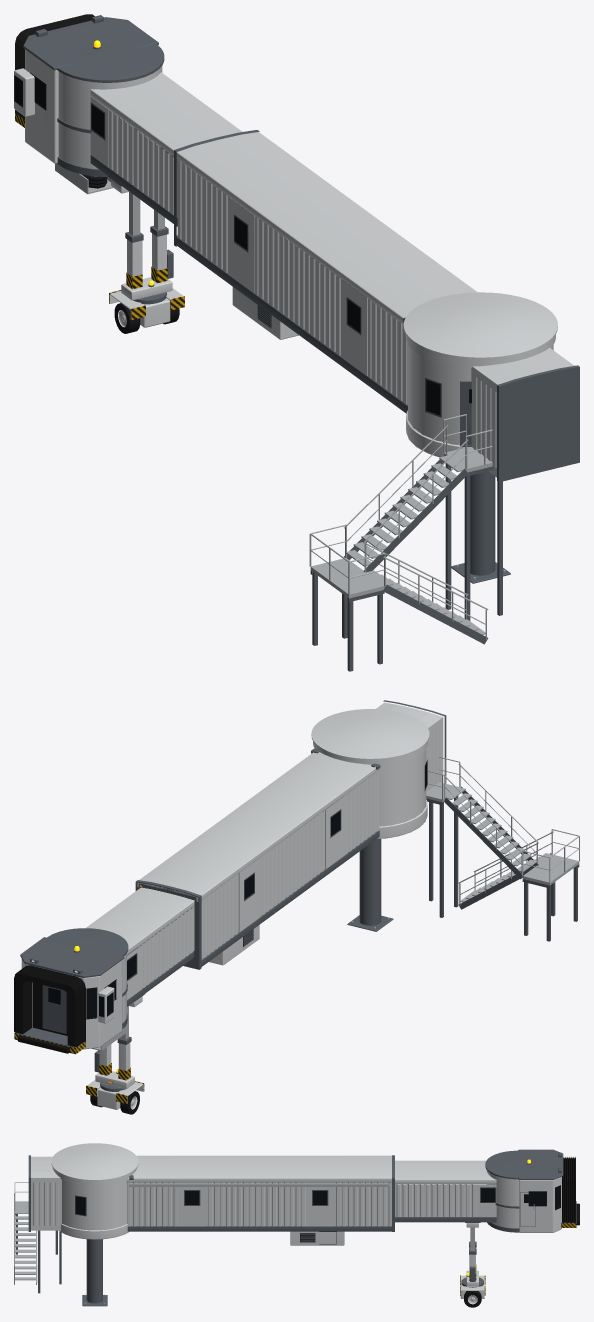
File: jet_bridge.glb
3 views of the same model, one above another, from view 1: azimuth 30°, elevation 25°; view 2: azimuth 150°, elevation 25°; view 3: azimuth 270°, elevation 25° (orthographic). The views are drawn at different scales.
Visible parts, largest first — view 1: JB_Rotunda, JB_Tunnel_A, JB_Cab, JB_Tunnel_B, JB_DriveColumn; view 2: JB_Tunnel_A, JB_Rotunda, JB_Cab, JB_Tunnel_B, JB_DriveColumn; view 3: JB_Tunnel_A, JB_Rotunda, JB_Cab, JB_Tunnel_B, JB_DriveColumn.
Boxes of the visible parts, bbox=[...] form: JB_Rotunda: bbox=[309, 292, 579, 671]; JB_Tunnel_A: bbox=[174, 130, 477, 413]; JB_Cab: bbox=[14, 14, 164, 194]; JB_Tunnel_B: bbox=[90, 72, 369, 299]; JB_DriveColumn: bbox=[109, 226, 184, 333]; JB_Tunnel_A: bbox=[135, 752, 380, 969]; JB_Rotunda: bbox=[311, 700, 579, 941]; JB_Cab: bbox=[14, 928, 128, 1054]; JB_Tunnel_B: bbox=[85, 840, 283, 1006]; JB_DriveColumn: bbox=[86, 1036, 144, 1114]; JB_Tunnel_A: bbox=[126, 1155, 394, 1245]; JB_Rotunda: bbox=[14, 1143, 138, 1306]; JB_Cab: bbox=[485, 1149, 579, 1232]; JB_Tunnel_B: bbox=[395, 1160, 496, 1222]; JB_DriveColumn: bbox=[460, 1241, 485, 1307].
Size of what is drawn, in the model's own units: 9.08 by 8.24 by 29.14.
8 materials, 2 textured.
